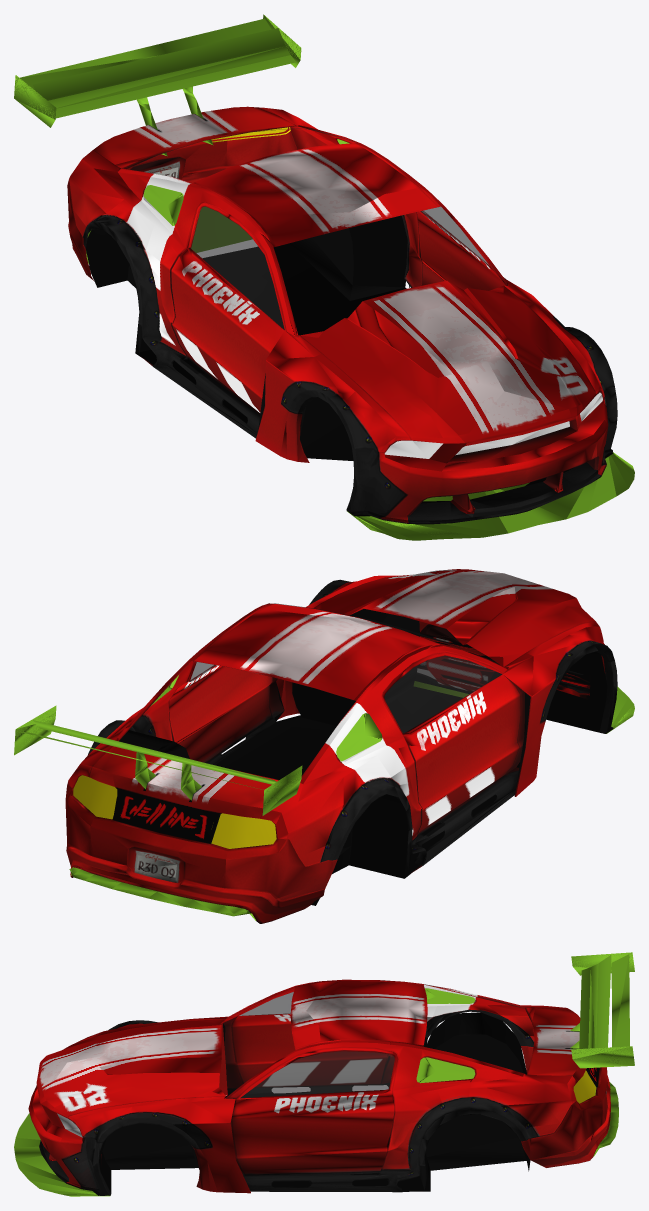
Rendered from MUST 09 11.FBX.
The picture shows the model from 3 angles, top to bottom: view 1: azimuth 30°, elevation 25°; view 2: azimuth 150°, elevation 25°; view 3: azimuth 270°, elevation 25°; orthographic projection. The views are drawn at different scales.
Parts seen in each view (by area): view 1: Plane001; view 2: Plane001, Object001; view 3: Plane001.
Part boxes in pixels (x1=…): Plane001: x1=14, y1=14, x2=634, y2=540; Plane001: x1=14, y1=569, x2=634, y2=923; Object001: x1=415, y1=633, x2=590, y2=699; Plane001: x1=14, y1=952, x2=634, y2=1196.
Bounding box in the file's own units: 97.65 × 66.18 × 250.
